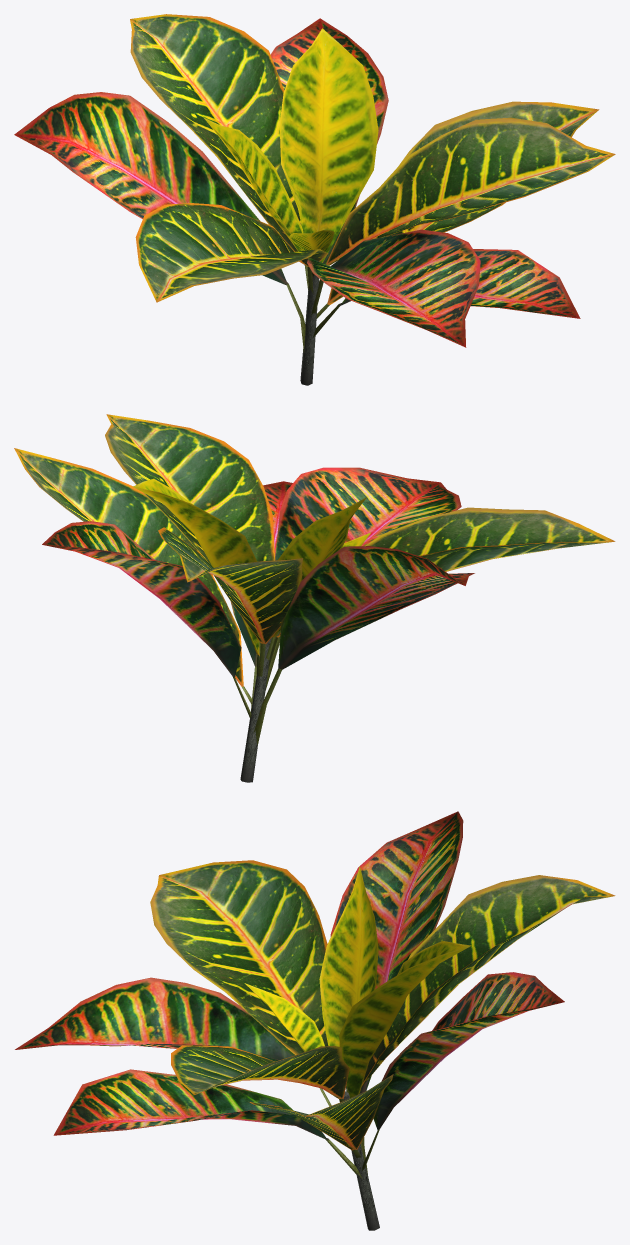
File: Croton_B.FBX
The picture shows the model from 3 angles, top to bottom: view 1: azimuth 30°, elevation 25°; view 2: azimuth 150°, elevation 25°; view 3: azimuth 270°, elevation 25°; orthographic projection. The views are drawn at different scales.
Visible parts, largest first — view 1: Object2617; view 2: Object2617; view 3: Object2617.
Boxes of the visible parts, x1,y1,x2,y2 form: Object2617: [14, 14, 615, 385]; Object2617: [14, 414, 615, 782]; Object2617: [15, 811, 615, 1230].
Bounding box in the file's own units: 89.67 × 50.96 × 88.09.
